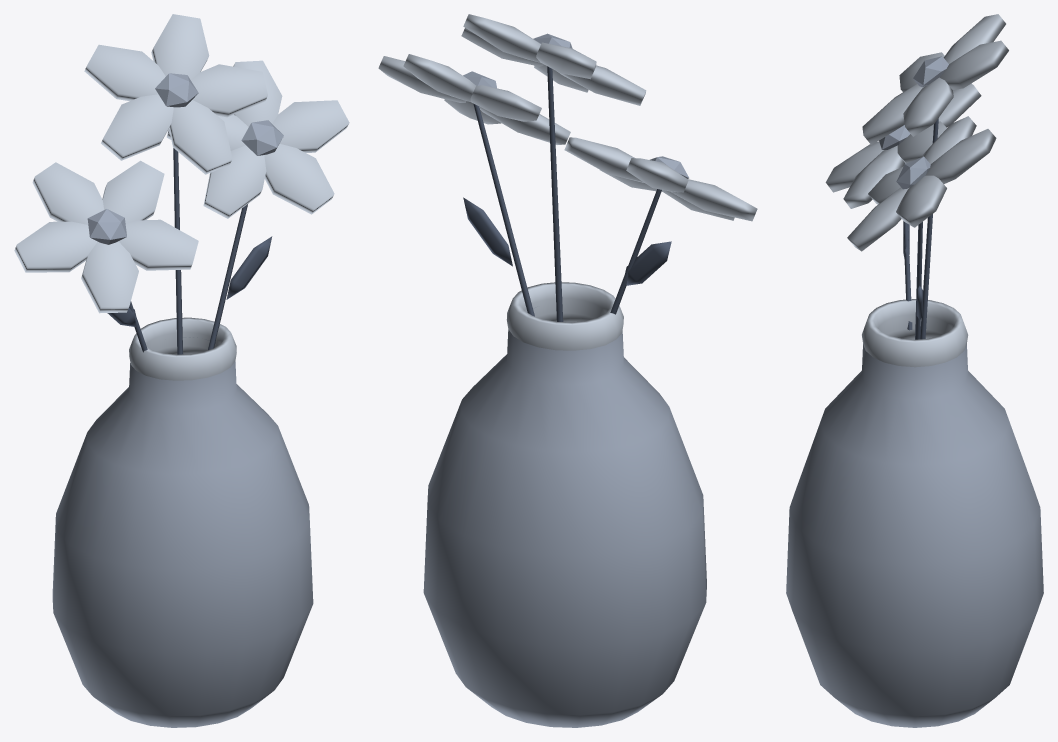
Rendered from 陶瓷花瓶-lite.glb.
3 renders of one model, left to right at view 1: azimuth 30°, elevation 25°; view 2: azimuth 150°, elevation 25°; view 3: azimuth 270°, elevation 25°, orthographic. The views are drawn at different scales.
Visible parts, largest first — view 1: decor-vase; view 2: decor-vase; view 3: decor-vase.
Part boxes in pixels (x1=…): decor-vase: x1=14, y1=14, x2=349, y2=727; decor-vase: x1=378, y1=14, x2=757, y2=727; decor-vase: x1=786, y1=14, x2=1043, y2=727.
Bounding box in the file's own units: 0.23 × 0.43 × 0.15.
